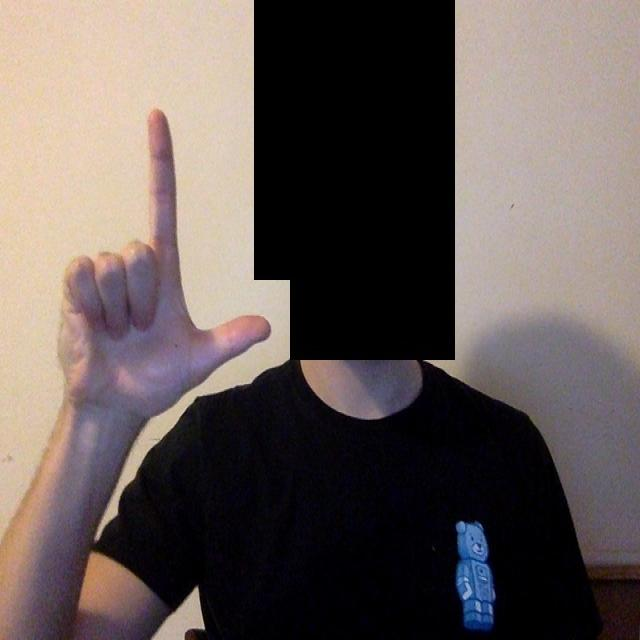L: (33, 91, 293, 455)
